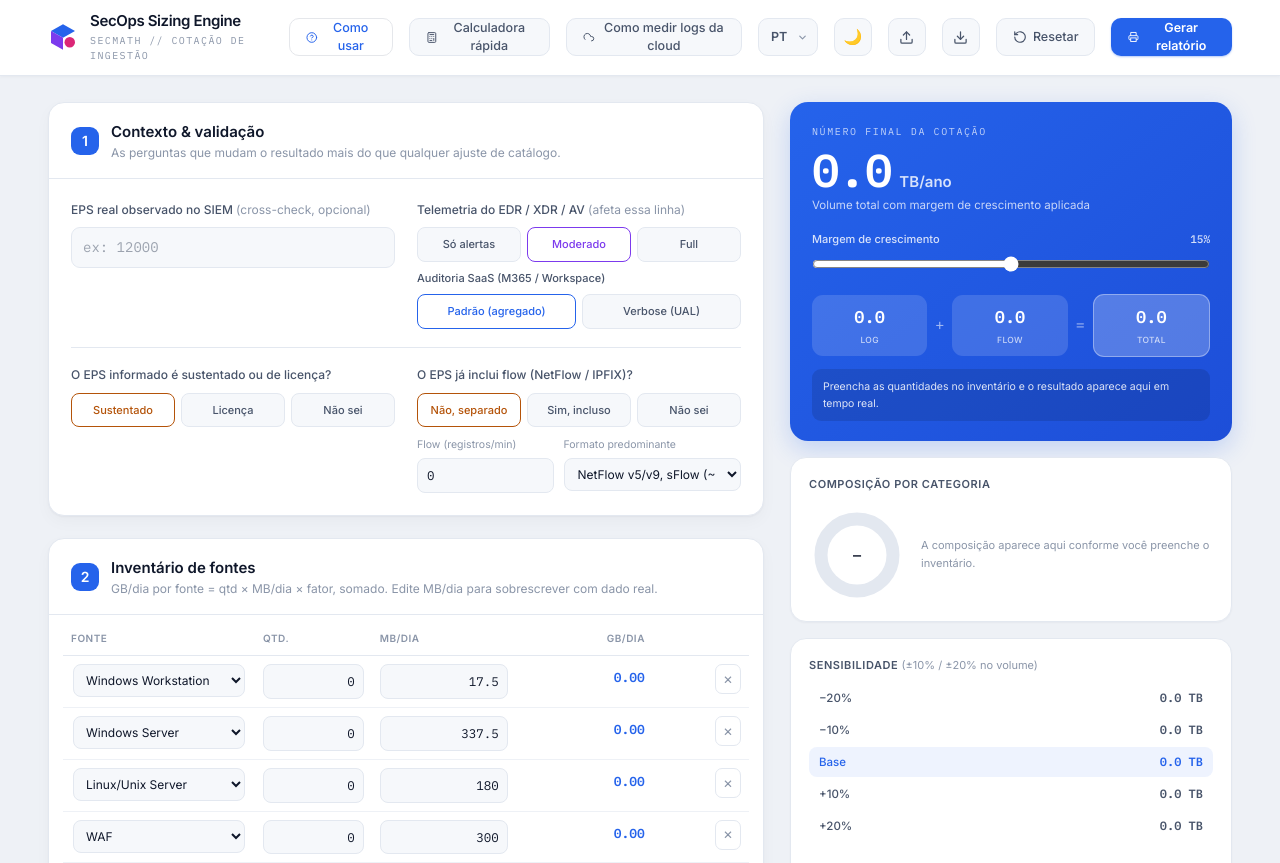
Scenario: App (renderização) › abre a calculadora rápida e converte 500 GB/dia
The image size is (1280, 863).
Click the button "Calculadora rápida". click: (479, 37)
box: [409,18,550,56]
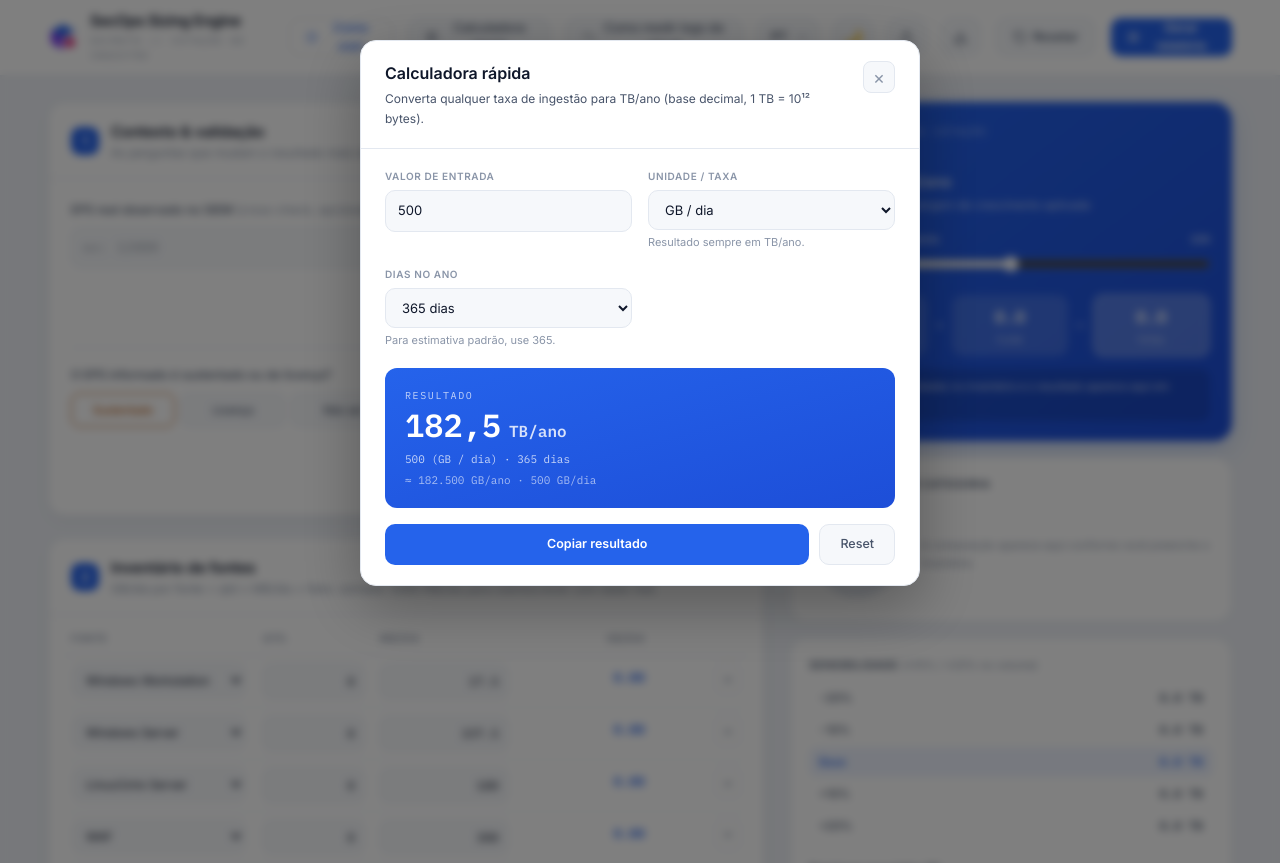
Expected: the text "182,5TB/ano" is shown, [405,404,567,446]
